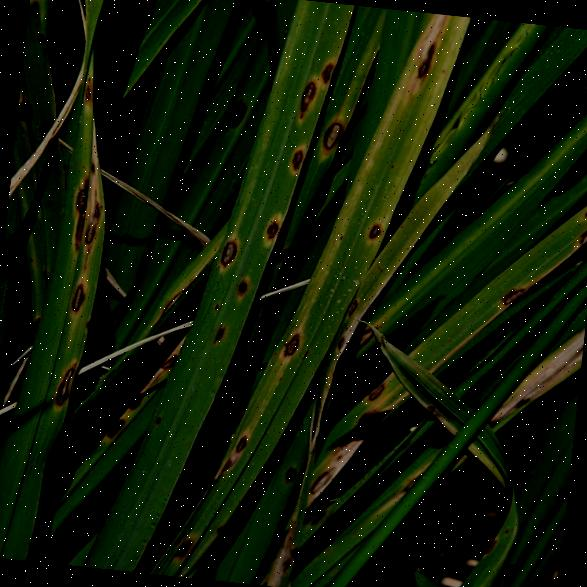Brown_Spot: (64, 179, 110, 250), (39, 350, 83, 417), (200, 227, 245, 274), (404, 30, 440, 88), (56, 276, 96, 318), (288, 70, 319, 122), (310, 115, 350, 153), (168, 526, 206, 564), (256, 206, 286, 252), (495, 277, 534, 312), (274, 322, 308, 362), (308, 48, 342, 86), (222, 90, 250, 130), (477, 525, 509, 560), (95, 412, 136, 439), (567, 196, 587, 251), (70, 68, 98, 106), (282, 138, 310, 175), (276, 458, 309, 486), (16, 95, 43, 129), (308, 461, 335, 493), (361, 212, 387, 244), (225, 426, 256, 452), (362, 378, 390, 401), (204, 321, 230, 343), (28, 27, 53, 46), (146, 410, 163, 428), (455, 581, 493, 587)
